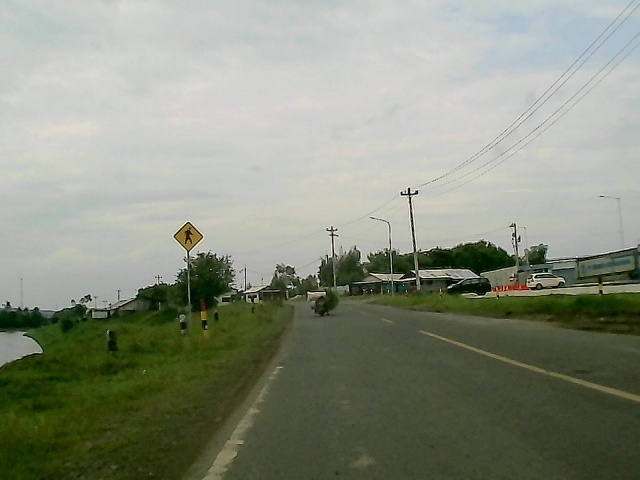Peringatan orang menyeberang: (172, 219, 206, 253)
